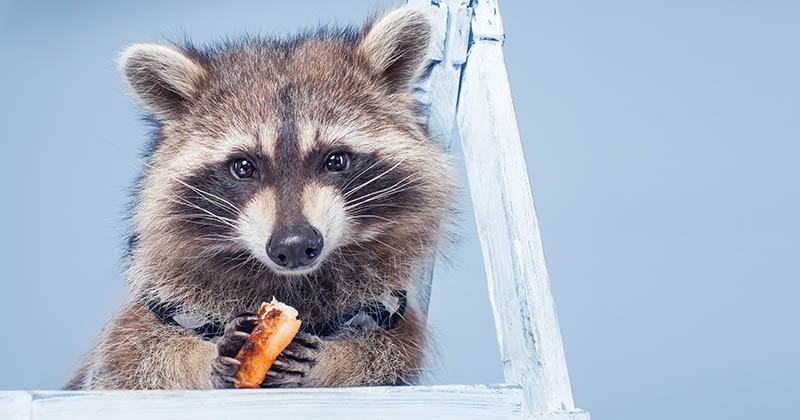raccoon: (60, 5, 480, 420)
